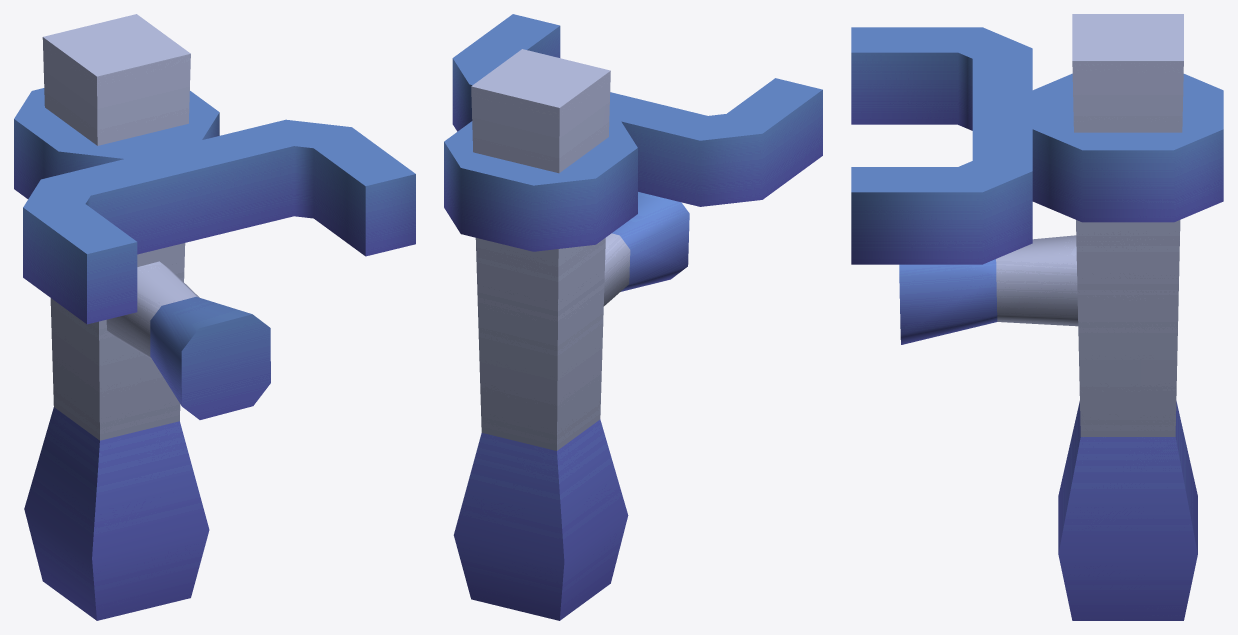
Rendered from aid-crutch.glb.
The picture shows the model from 3 angles, left to right: view 1: azimuth 30°, elevation 25°; view 2: azimuth 150°, elevation 25°; view 3: azimuth 270°, elevation 25°; orthographic projection. The views are drawn at different scales.
Parts seen in each view (by area): view 1: aid-crutch, Group; view 2: Group, aid-crutch; view 3: aid-crutch, Group.
Part boxes in pixels (x1,y1,x2,y2): aid-crutch: (14, 88, 415, 419); Group: (24, 14, 209, 620); Group: (453, 49, 628, 620); aid-crutch: (444, 14, 822, 306); aid-crutch: (851, 27, 1223, 344); Group: (1058, 14, 1197, 620).
Bounding box in the file's own units: 0.196 × 0.31 × 0.187.
Materials: 1 (1 with a texture image).
